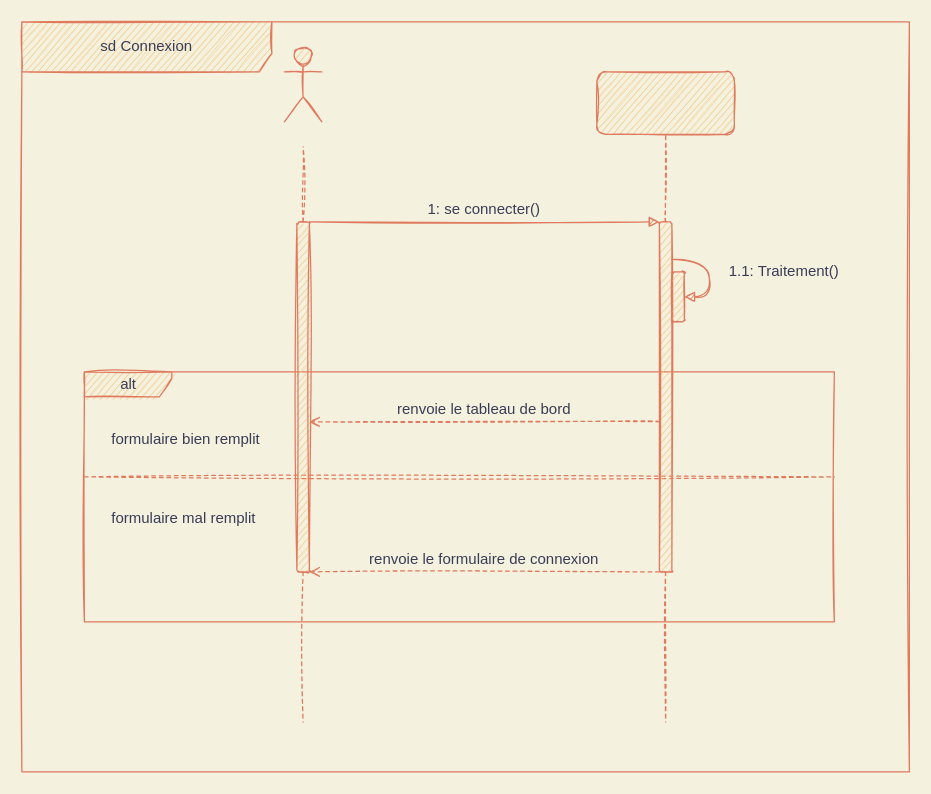
The diagram is 931 pixels wide and 794 high, and some of its shapes have lost their labels. The shapes that lost their labels are listed below. From the top down, each one's centre as x and y in pixels, then its label:
At (302,84): "Rôle: Administrateur".
At (665,102): "Systeme".
